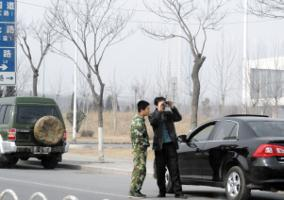person: (149, 97, 188, 200)
